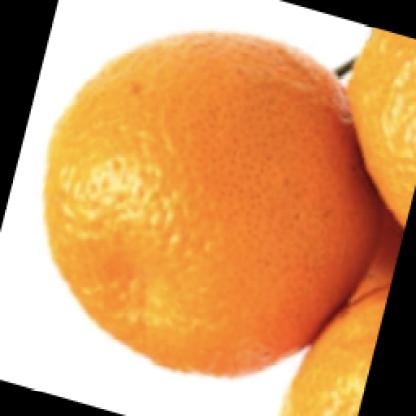fresh: (43, 30, 385, 376)
